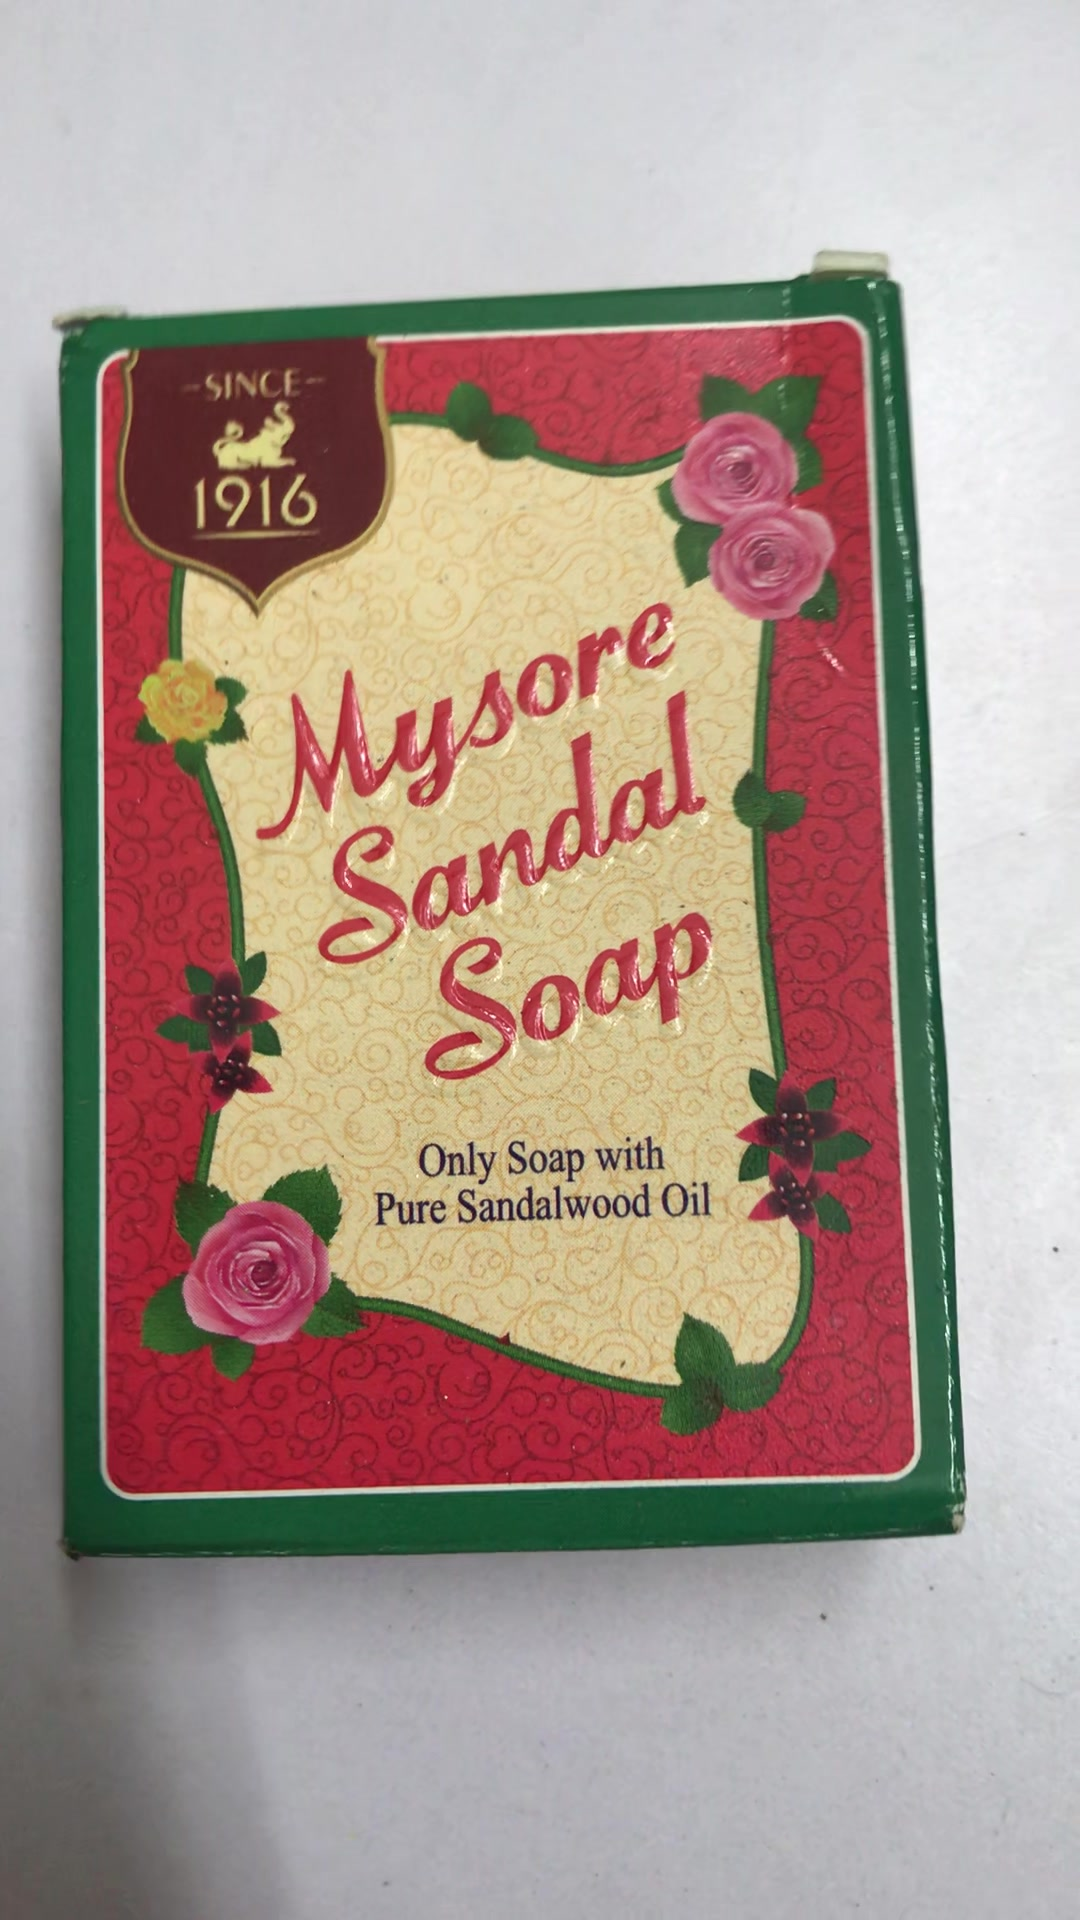mysore sandal soap: (65, 258, 959, 1556)
